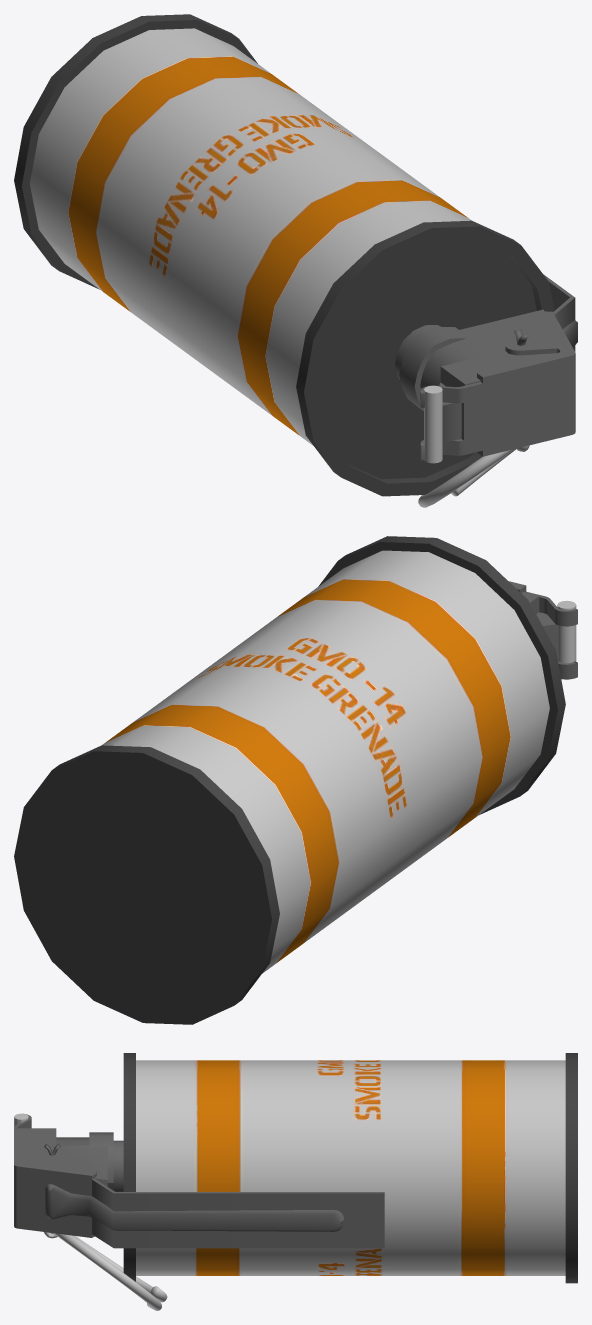
Rendered from Smoke_net.glb.
The picture shows the model from 3 angles, top to bottom: view 1: azimuth 30°, elevation 25°; view 2: azimuth 150°, elevation 25°; view 3: azimuth 270°, elevation 25°; orthographic projection. The views are drawn at different scales.
Parts seen in each view (by area): view 1: Smoke_net; view 2: Smoke_net; view 3: Smoke_net.
Boxes of the visible parts, x1,y1,x2,y2 form: Smoke_net: (14, 14, 577, 507); Smoke_net: (14, 536, 577, 1024); Smoke_net: (14, 1053, 577, 1310).
Size of the model in its own units: 0.0884 by 0.0915 by 0.2051.
Materials: 1 (1 with a texture image).
